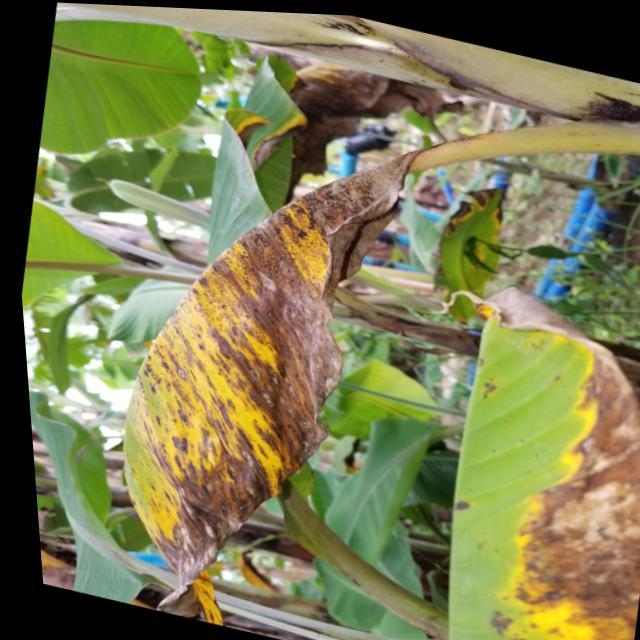Early_rust: (76, 164, 383, 627), (440, 266, 640, 640), (208, 40, 368, 177), (425, 156, 540, 323)
